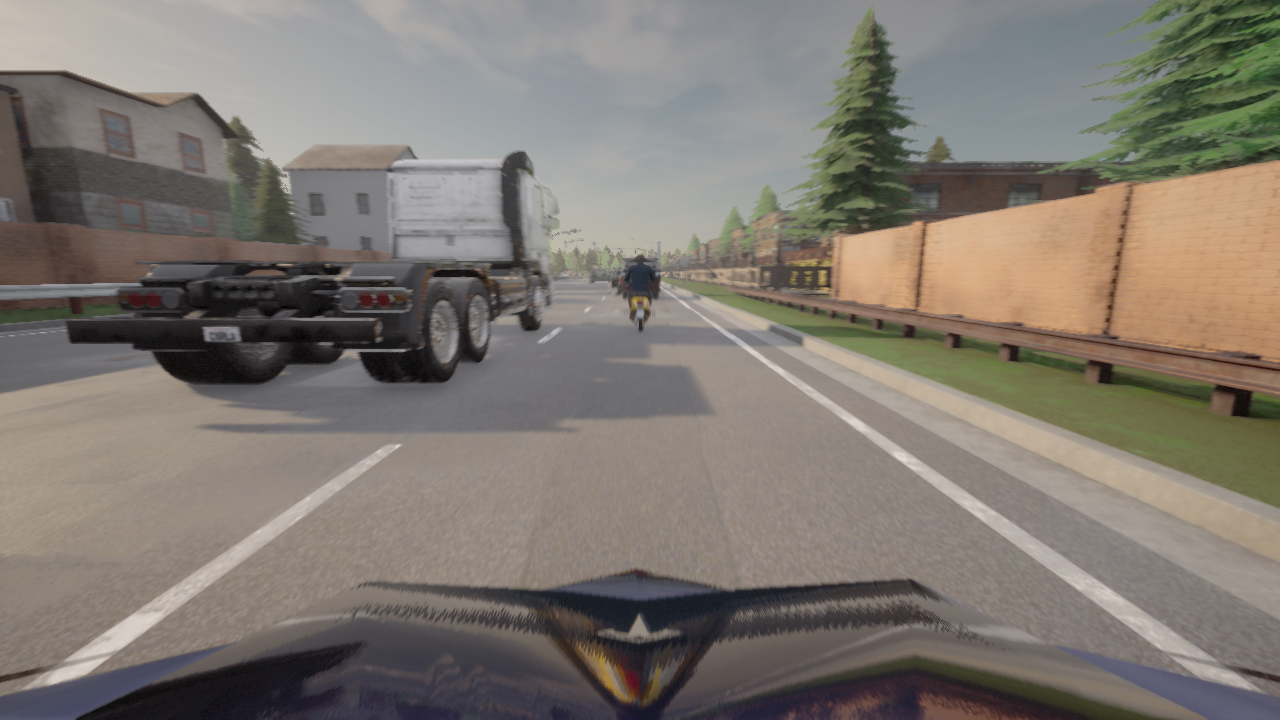cyclist: (0, 569, 1279, 719), (65, 150, 558, 384), (621, 272, 658, 331), (621, 257, 658, 298), (589, 266, 611, 284), (608, 267, 621, 294)
pedestrian: (781, 261, 785, 289), (786, 261, 792, 276), (764, 261, 769, 265)
